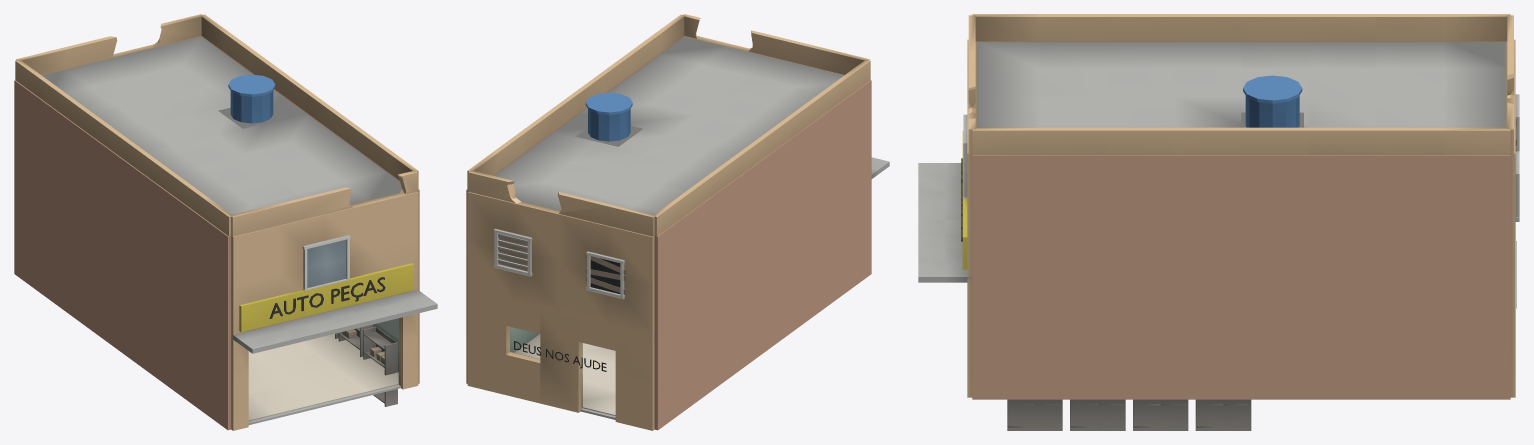
Rendered from sobrado_9.glb.
The picture shows the model from 3 angles, left to right: view 1: azimuth 30°, elevation 25°; view 2: azimuth 150°, elevation 25°; view 3: azimuth 270°, elevation 25°; orthographic projection. The views are drawn at different scales.
Visible parts, largest first — view 1: ext, longe, dentro, detalhe; view 2: ext, longe, detalhe, dentro; view 3: ext, longe, dentro, detalhe.
Part boxes in pixels (x1,y1,x2,y2): ext: [14, 36, 419, 430]; longe: [15, 14, 437, 353]; dentro: [248, 318, 400, 424]; detalhe: [218, 74, 385, 318]; ext: [466, 35, 871, 430]; longe: [467, 14, 889, 236]; detalhe: [494, 92, 642, 371]; dentro: [510, 327, 615, 419]; ext: [967, 39, 1515, 399]; longe: [918, 14, 1513, 282]; dentro: [1007, 399, 1251, 430]; detalhe: [961, 75, 1519, 308].
Size of what is drawn, in the model's own units: 6.22 by 7.82 by 13.4.
